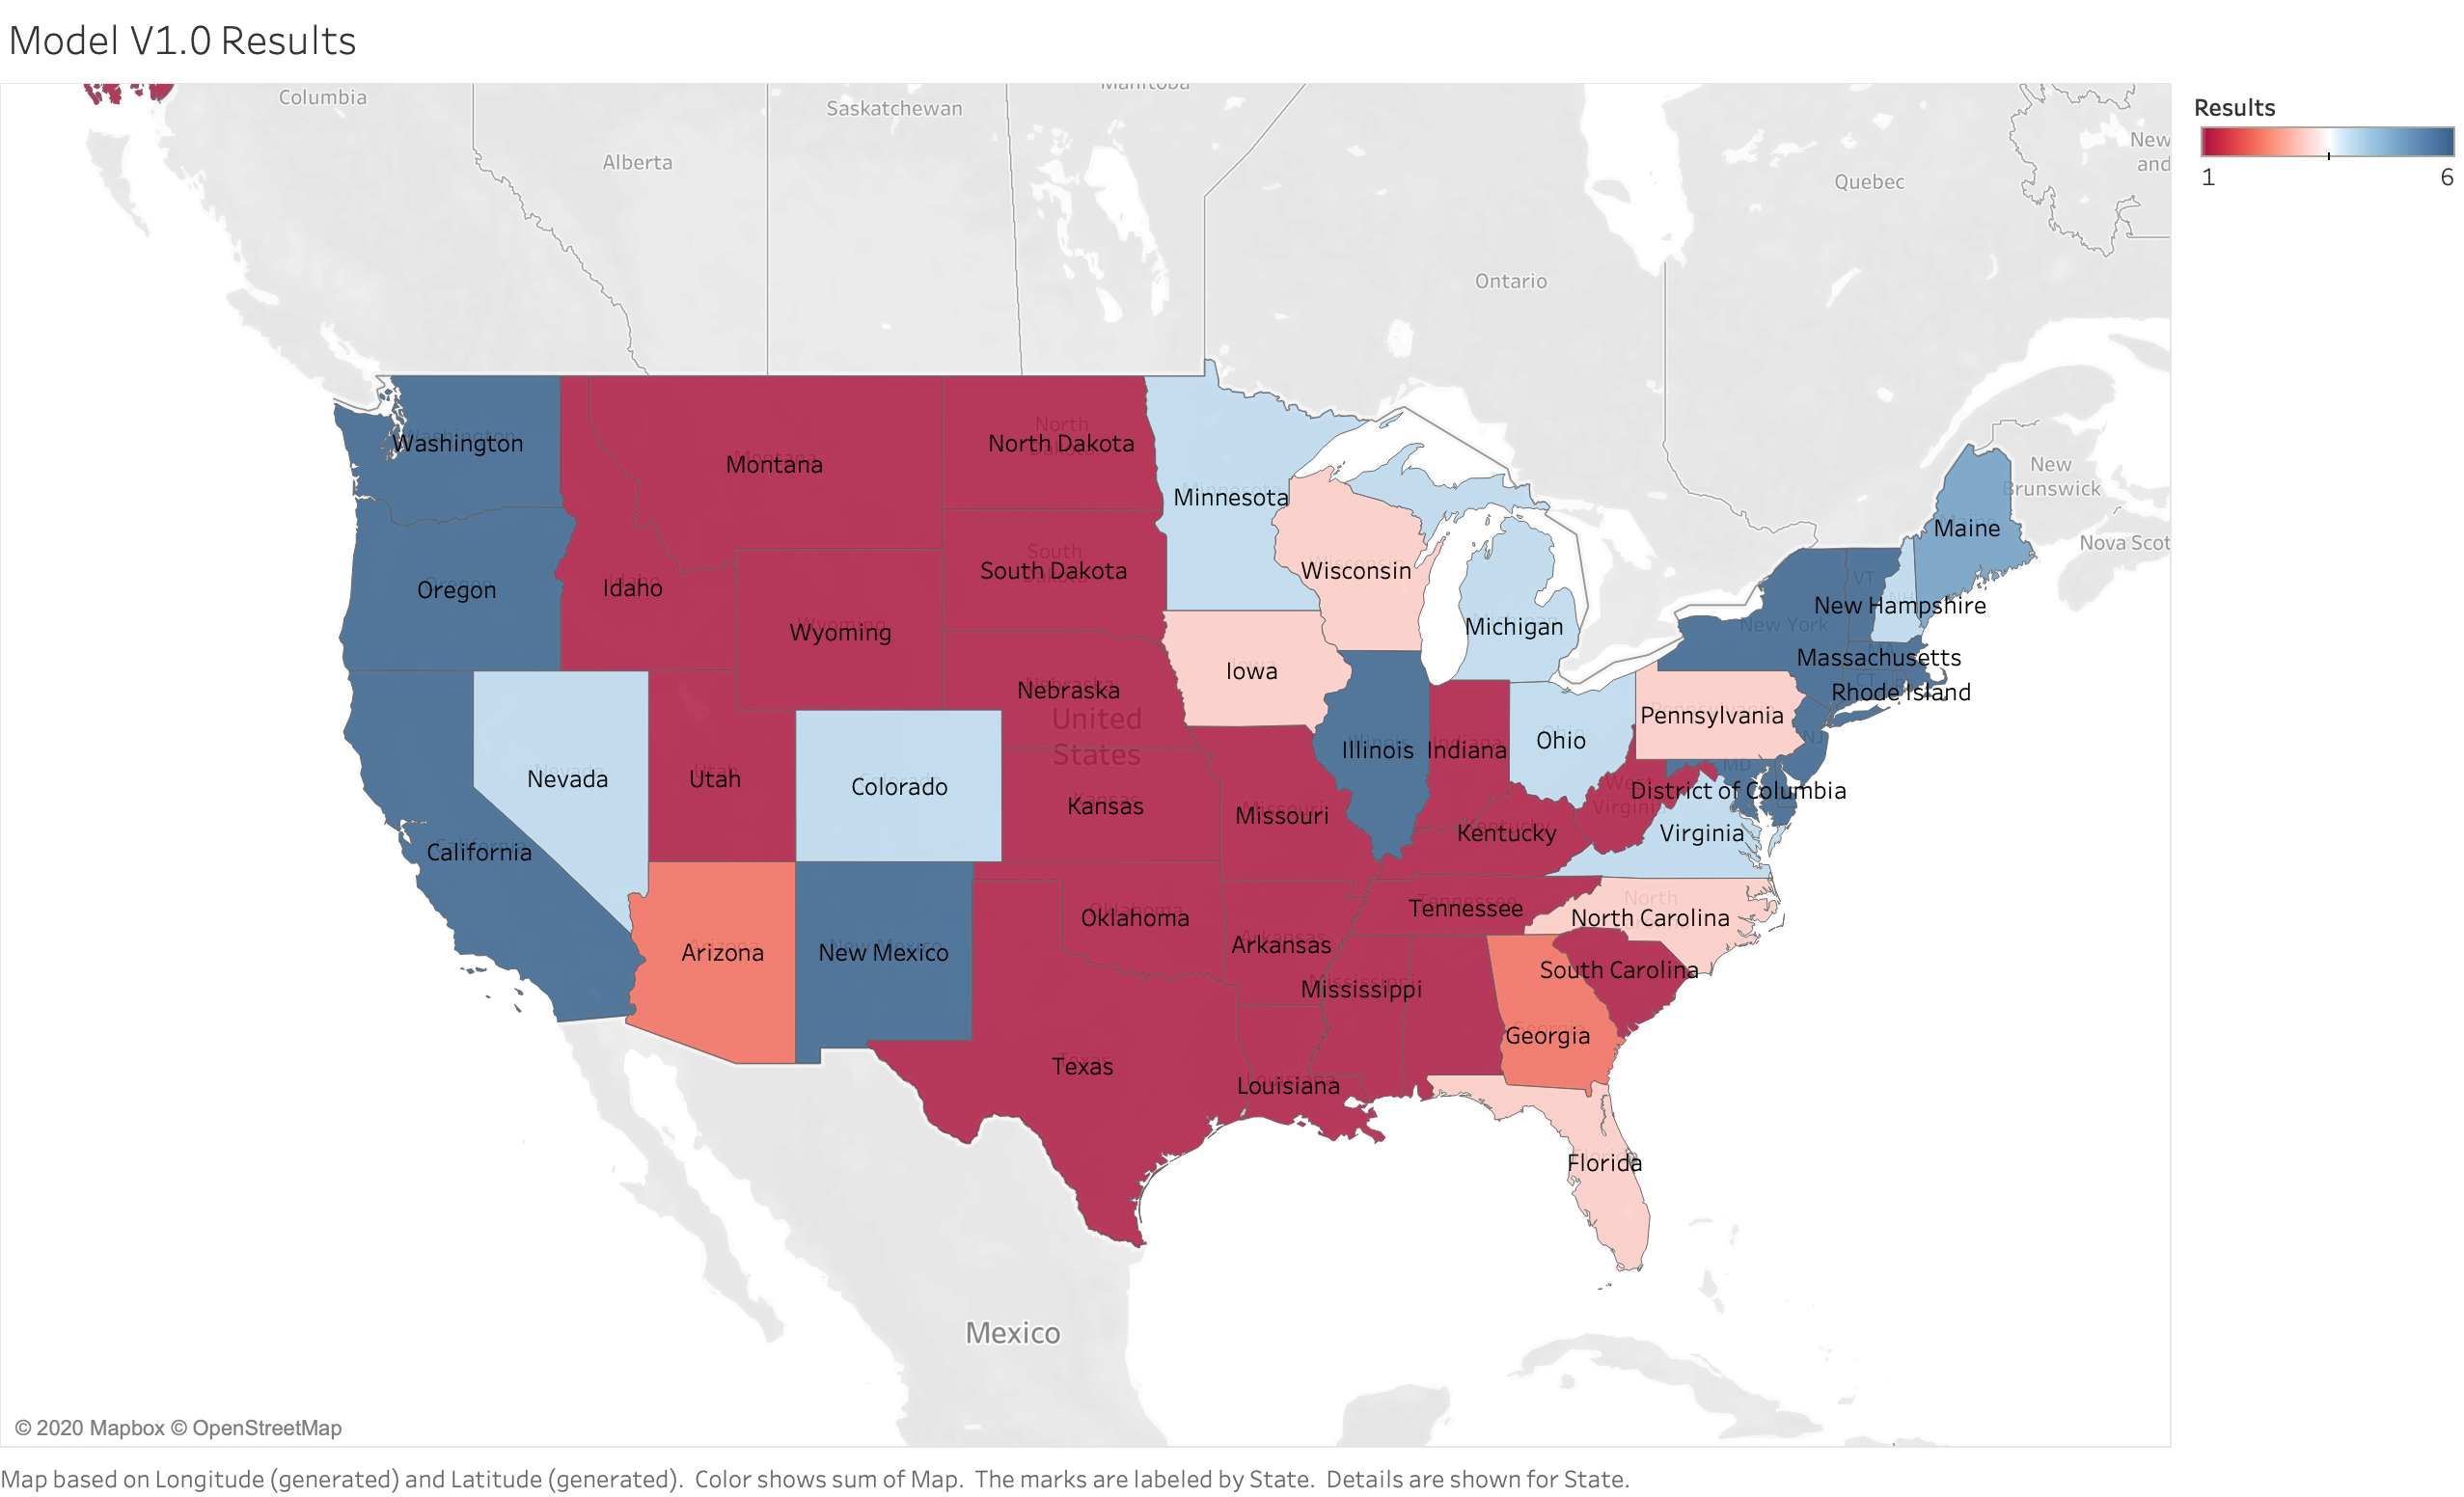

The page's visual inventory and layout, read from the dashboard file:
{"tool":"tableau","page":{"name":"Dashboard 1","canvas":[1000,800],"ordinal":0},"visuals":[{"type":"worksheet","title":"Sheet 1","mark":"Automatic","box":[8,8,984,709]},{"type":"legend","title":"Sheet 1","param":"[federated.0lg8ws11livke415stike06yap8l].[sum:Map:qk]","box":[8,717,984,75]}]}

Visuals, with their boxes on the page's 1000x800 design canvas (x1, y1, x2, y2). These are canvas units, not pixel positions in the 2464x1497 screenshot, which may show the page scaled, cropped or inside an application window:
"Sheet 1" worksheet: 8,8,992,717
"Sheet 1" legend: 8,717,992,792
